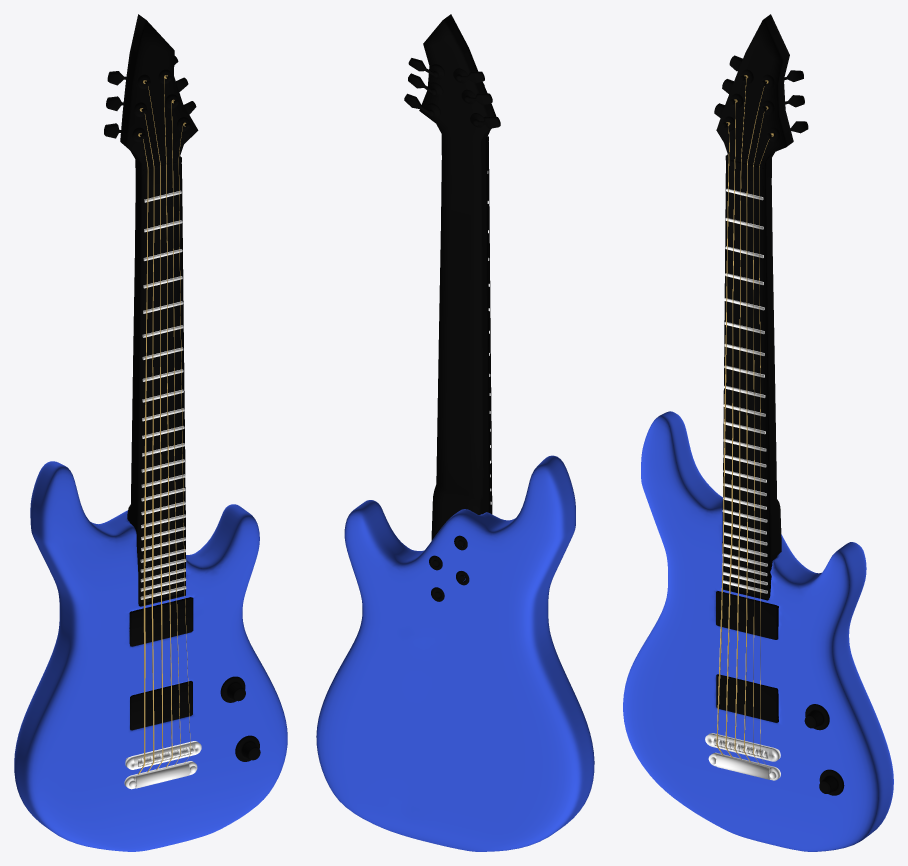
The model's file is gitar.gltf.
The picture shows the model from 3 angles, left to right: view 1: azimuth 30°, elevation 25°; view 2: azimuth 150°, elevation 25°; view 3: azimuth 330°, elevation 25°; orthographic projection. The views are drawn at different scales.
Parts seen in each view (by area): view 1: Node13, Node16, Node1, Node2, Node60, Node59, Node12, Node17, Node64, Node61, Node63, Node5 (+3 smaller); view 2: Node13, Node16, Node17; view 3: Node13, Node16, Node1, Node2, Node59, Node61, Node64, Node60, Node12, Node17, Node63, Node5 (+3 smaller).
Boxes of the visible parts, left/top/right/bottom form: Node13: left=14, top=461, right=287, bottom=851; Node16: left=120, top=14, right=198, bottom=603; Node1: left=129, top=597, right=193, bottom=646; Node2: left=130, top=681, right=192, bottom=730; Node60: left=138, top=133, right=148, bottom=774; Node59: left=139, top=108, right=154, bottom=772; Node12: left=124, top=761, right=197, bottom=789; Node17: left=138, top=162, right=185, bottom=606; Node64: left=164, top=75, right=172, bottom=767; Node61: left=143, top=80, right=163, bottom=769; Node63: left=171, top=99, right=180, bottom=764; Node5: left=125, top=741, right=201, bottom=769; Node13: left=316, top=455, right=594, bottom=851; Node16: left=419, top=14, right=496, bottom=540; Node17: left=487, top=141, right=492, bottom=514; Node13: left=623, top=411, right=893, bottom=851; Node16: left=716, top=14, right=793, bottom=597; Node1: left=716, top=591, right=778, bottom=639; Node2: left=716, top=674, right=778, bottom=722; Node59: left=725, top=99, right=737, bottom=757; Node61: left=734, top=75, right=747, bottom=759; Node64: left=743, top=80, right=768, bottom=761; Node60: left=716, top=122, right=730, bottom=755; Node12: left=708, top=752, right=780, bottom=780; Node17: left=722, top=160, right=769, bottom=600; Node63: left=753, top=106, right=768, bottom=763; Node5: left=705, top=733, right=780, bottom=761.
Size of the model in its own units: 1.78 by 5.37 by 0.3715.
